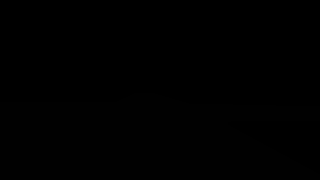go_ahead: (238, 2, 287, 47)
